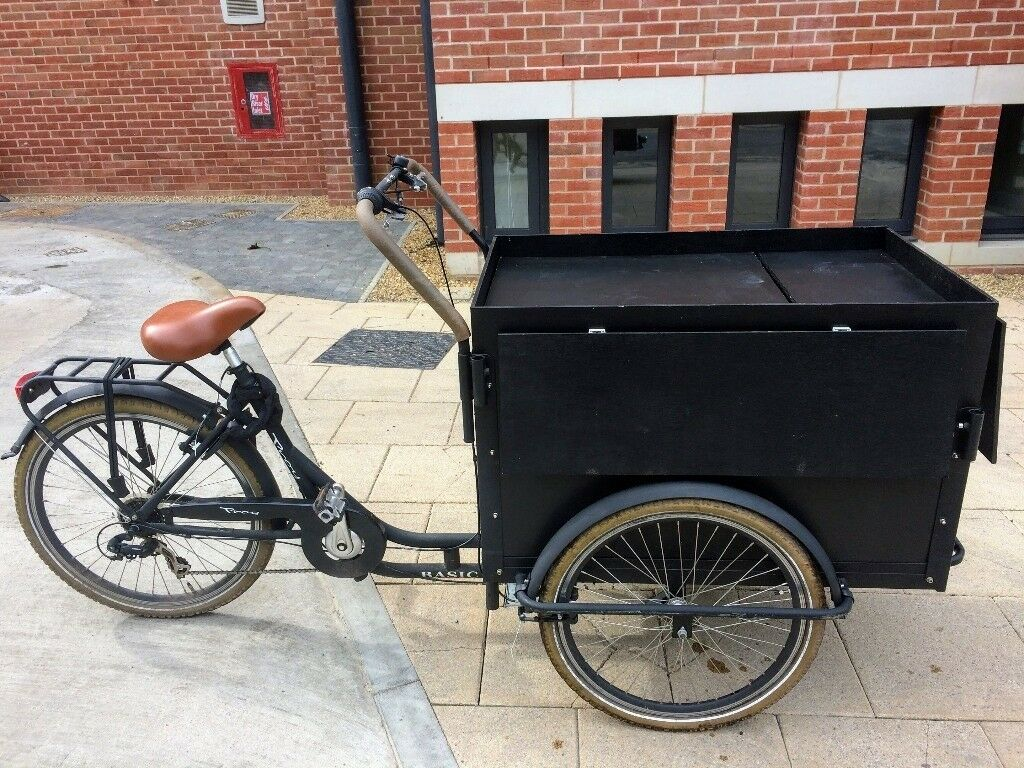handle bar: (349, 137, 440, 245)
seat: (141, 285, 283, 381)
wheel: (520, 483, 836, 745), (12, 385, 287, 656)
